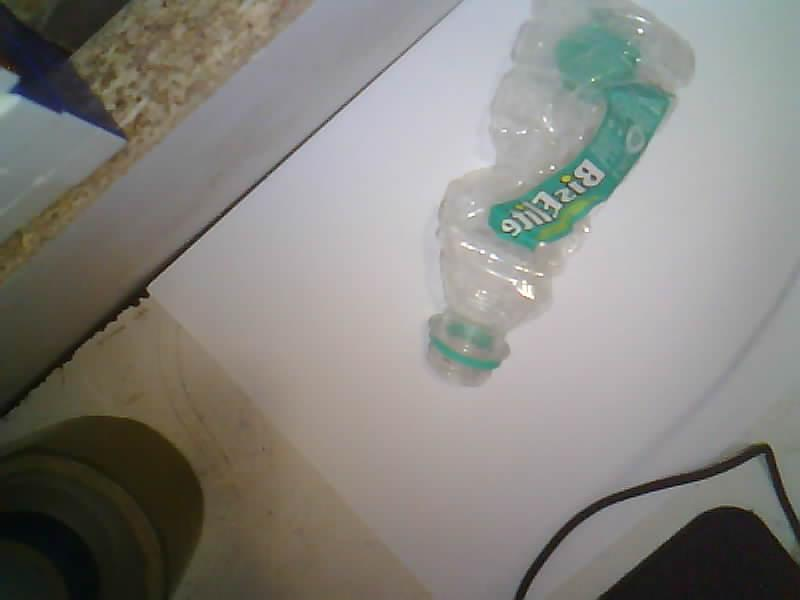non-biodegradable: (429, 0, 693, 384)
